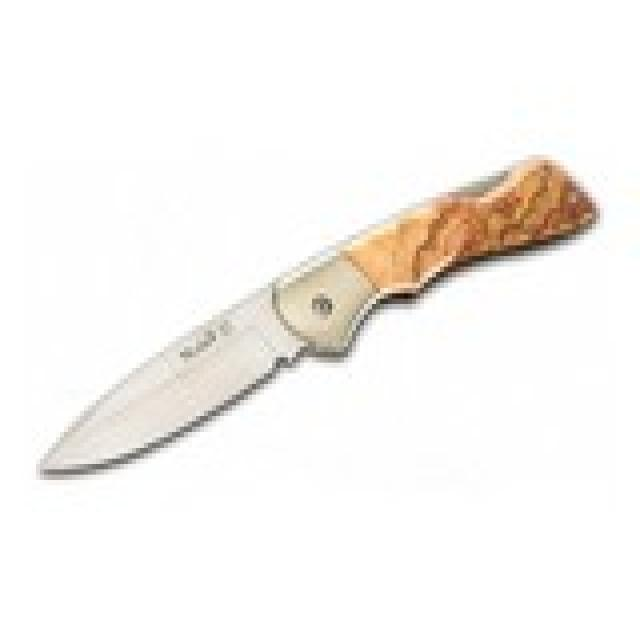Knife: (35, 146, 601, 484)
